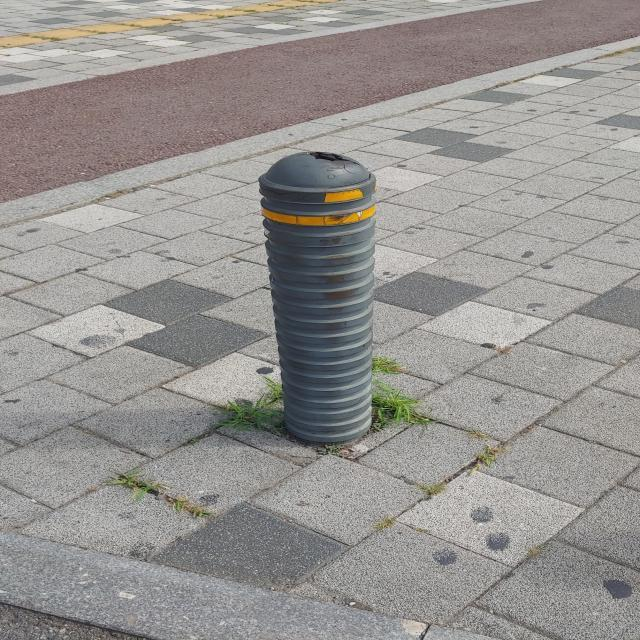pole: (258, 150, 376, 444)
